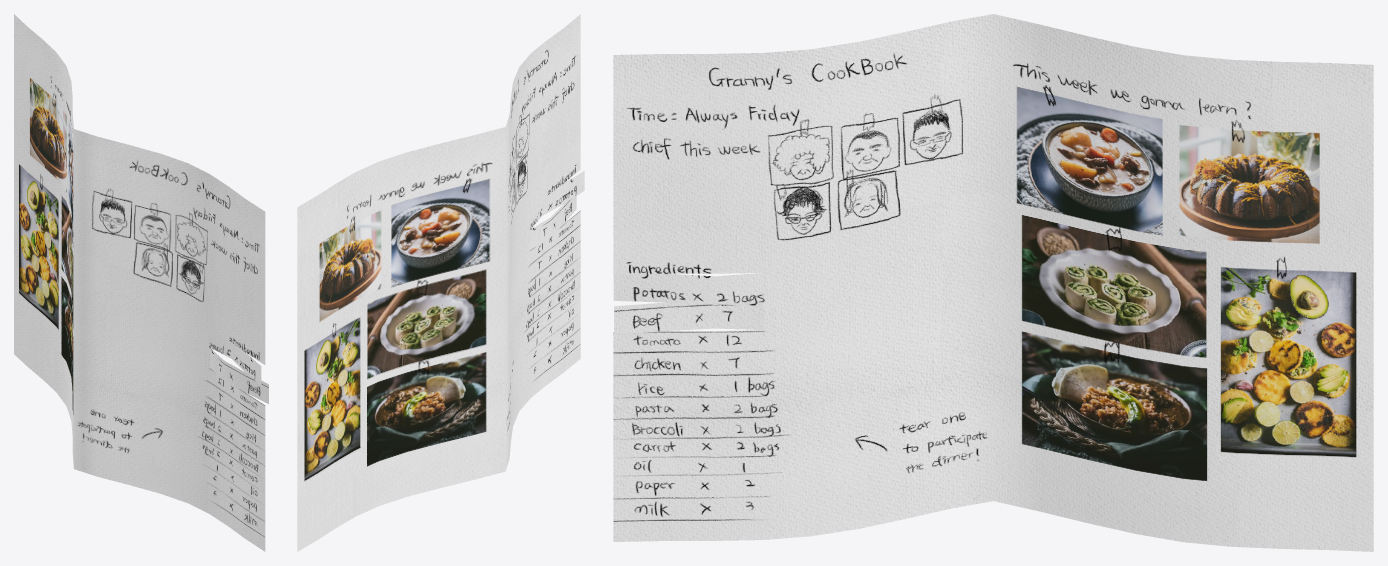
File: cookbook.glb
3 views of the same model, side by side, from view 1: azimuth 30°, elevation 25°; view 2: azimuth 150°, elevation 25°; view 3: azimuth 270°, elevation 25° (orthographic). The views are drawn at different scales.
Parts seen in each view (by area): view 1: so done 拷贝; view 2: so done 拷贝; view 3: so done 拷贝.
Boxes of the visible parts, x1,y1,x2,y2 form: so done 拷贝: (14,14,268,551); so done 拷贝: (297,14,584,551); so done 拷贝: (613,14,1373,551).
Bounding box in the file's own units: 0.2241 × 1 × 1.41.
Materials: 1 (1 with a texture image).
